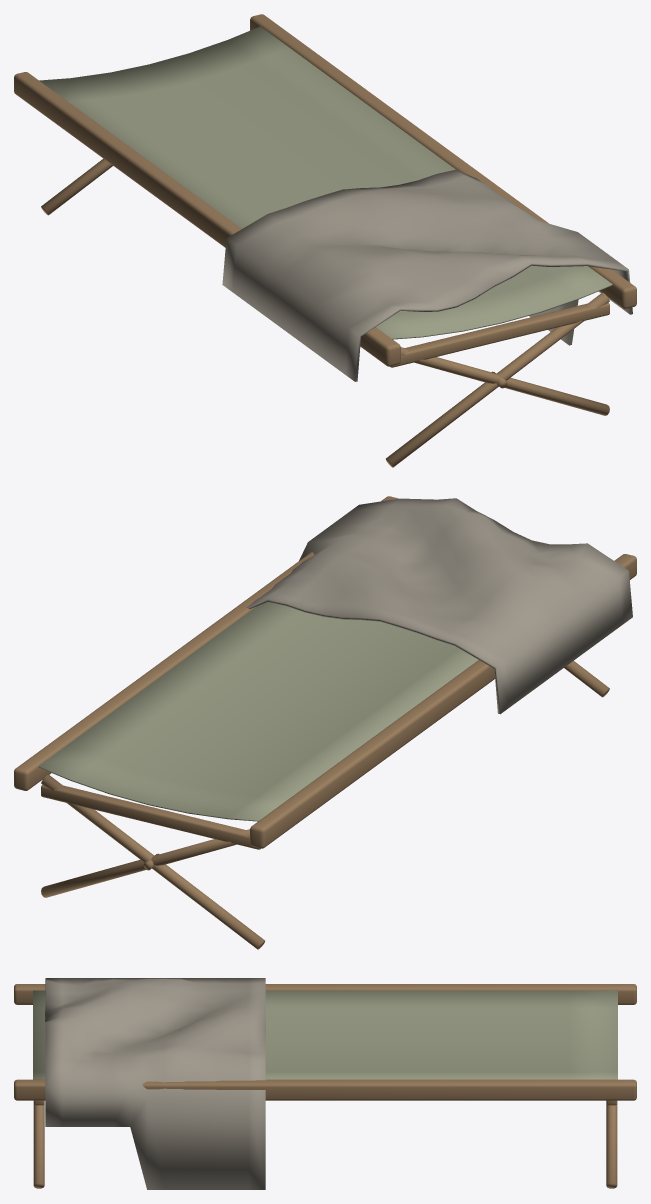
File: ss_bare_cot.glb
The picture shows the model from 3 angles, top to bottom: view 1: azimuth 30°, elevation 25°; view 2: azimuth 150°, elevation 25°; view 3: azimuth 270°, elevation 25°; orthographic projection. The views are drawn at different scales.
Parts seen in each view (by area): view 1: ss_bare_cot; view 2: ss_bare_cot; view 3: ss_bare_cot.
Part boxes in pixels (left/top/right/bottom): ss_bare_cot: left=14, top=14, right=636, bottom=467; ss_bare_cot: left=14, top=496, right=636, bottom=949; ss_bare_cot: left=14, top=978, right=636, bottom=1189.
Size of the model in its own units: 0.848 by 0.4841 by 1.98.
